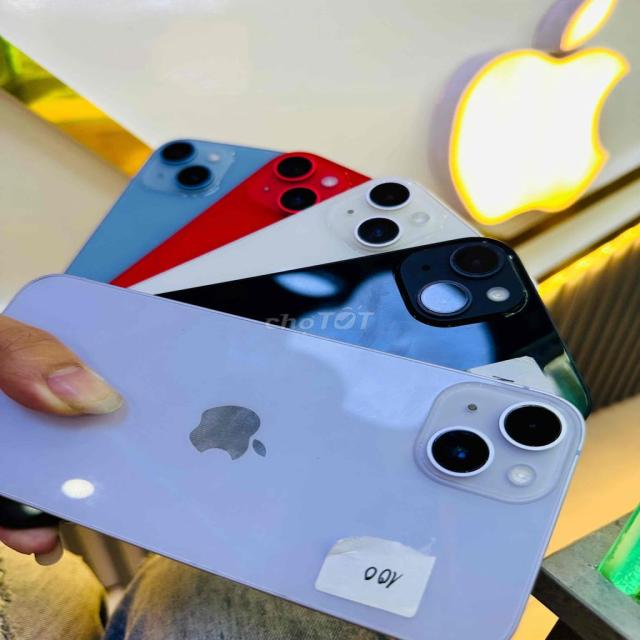gen_14: (0, 276, 526, 598)
